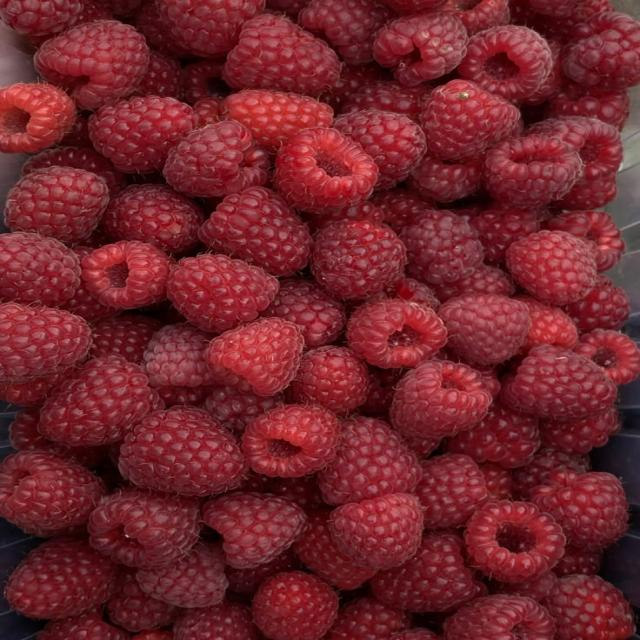raspberry: (119, 407, 246, 496), (39, 355, 159, 446), (198, 187, 311, 276), (34, 21, 149, 108), (223, 14, 340, 95), (274, 126, 379, 213), (5, 538, 117, 619), (0, 451, 106, 536), (318, 417, 420, 504), (500, 345, 617, 420), (88, 488, 200, 566), (167, 254, 278, 332), (89, 96, 196, 173), (163, 121, 270, 197), (371, 534, 475, 612), (465, 501, 565, 582), (5, 166, 108, 243), (419, 80, 519, 159), (203, 492, 306, 568), (391, 361, 493, 437), (207, 318, 304, 396), (530, 471, 628, 548), (311, 220, 406, 299), (484, 134, 582, 208), (0, 303, 91, 382), (334, 110, 426, 188), (457, 25, 552, 100), (242, 404, 339, 477), (102, 185, 204, 254), (222, 89, 333, 152), (329, 493, 422, 568), (374, 11, 467, 86), (347, 298, 446, 368), (507, 230, 597, 305), (527, 117, 622, 187), (439, 294, 530, 365), (294, 510, 375, 589), (400, 209, 483, 284), (157, 0, 264, 58), (82, 241, 172, 309), (447, 403, 540, 468), (299, 0, 393, 64), (563, 12, 639, 90), (543, 575, 635, 639), (252, 571, 338, 639), (136, 544, 227, 608), (262, 278, 346, 347), (0, 232, 79, 305), (9, 407, 104, 467), (414, 453, 488, 529), (288, 346, 368, 414), (0, 83, 75, 153), (445, 594, 556, 639), (22, 147, 126, 195), (106, 567, 179, 632), (547, 211, 625, 271), (141, 323, 213, 387), (469, 207, 540, 265), (520, 0, 615, 43), (203, 386, 283, 435), (513, 448, 588, 500), (564, 275, 630, 332), (407, 153, 483, 202), (225, 547, 300, 596), (326, 596, 410, 639), (547, 85, 629, 129), (340, 81, 430, 121), (540, 408, 620, 453), (90, 314, 162, 364), (516, 295, 578, 353), (574, 330, 639, 384), (131, 0, 190, 59), (171, 601, 259, 639), (432, 263, 515, 302), (319, 64, 387, 110), (0, 0, 82, 36), (368, 188, 433, 232), (523, 40, 566, 106), (303, 200, 384, 233), (60, 279, 122, 322), (38, 612, 130, 639), (359, 366, 404, 420), (133, 50, 182, 99), (263, 474, 326, 512), (441, 0, 509, 35), (554, 175, 618, 210), (182, 59, 229, 105), (493, 571, 557, 602), (382, 278, 439, 311), (553, 544, 602, 577), (155, 385, 213, 407), (479, 463, 513, 500), (58, 111, 92, 147), (528, 0, 579, 18), (194, 96, 224, 126), (384, 0, 444, 14), (267, 0, 307, 20), (404, 437, 441, 458), (100, 0, 144, 17), (390, 627, 440, 639), (133, 628, 174, 639)
